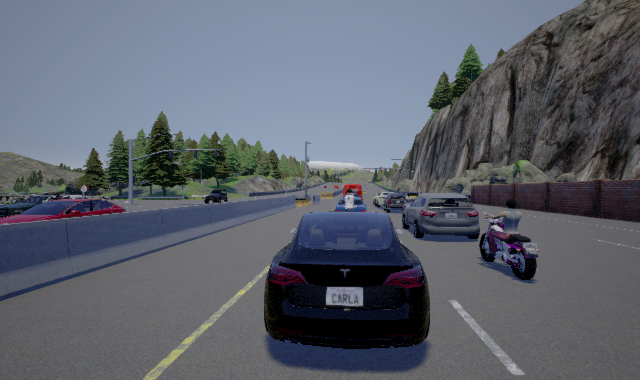motobike: (480, 199, 538, 281)
vehicle: (263, 210, 431, 349), (1, 194, 126, 224), (401, 195, 482, 240), (335, 195, 367, 212), (385, 191, 409, 213), (204, 189, 228, 204)
